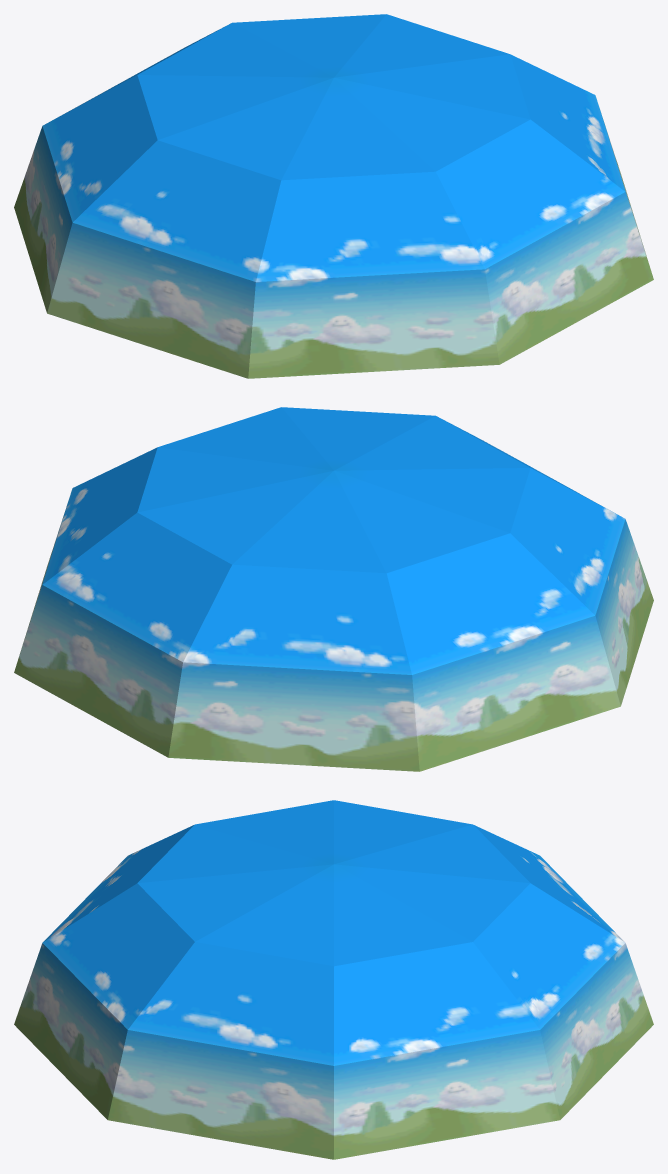
File: old_baby_gc-old_baby_gc_V.glb
3 renders of one model, top to bottom at view 1: azimuth 30°, elevation 25°; view 2: azimuth 150°, elevation 25°; view 3: azimuth 270°, elevation 25°, orthographic. The views are drawn at different scales.
Parts seen in each view (by area): view 1: old_baby_gc_V; view 2: old_baby_gc_V; view 3: old_baby_gc_V.
Boxes of the visible parts, x1,y1,x2,y2 form: old_baby_gc_V: (14,14,653,378); old_baby_gc_V: (14,407,653,771); old_baby_gc_V: (14,800,653,1159).
Size of the model in its own units: 1058 by 292 by 1058.
Materials: 1 (1 with a texture image).
